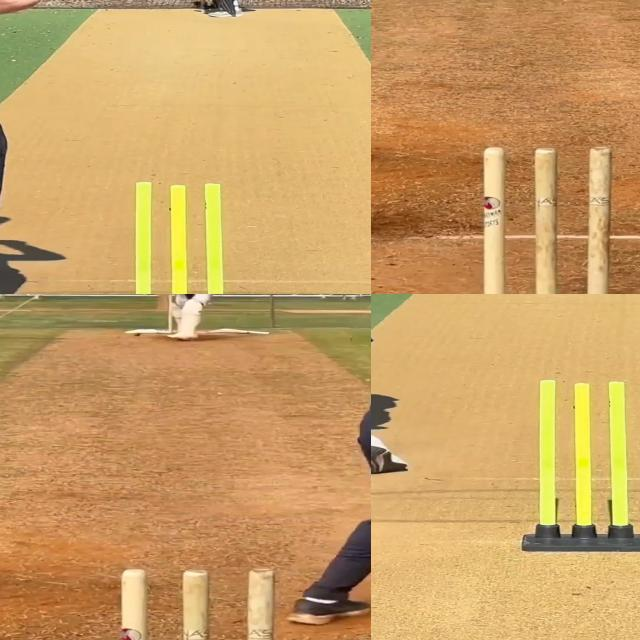Stumps: (475, 140, 614, 294), (519, 380, 640, 552), (117, 568, 276, 640)
